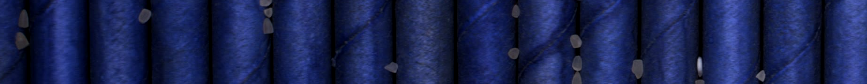broken_grain: (629, 54, 649, 83), (12, 28, 29, 48), (138, 7, 154, 27), (571, 53, 586, 74), (569, 31, 584, 51), (383, 60, 400, 76), (260, 16, 274, 35), (17, 9, 30, 29), (505, 44, 521, 59), (509, 1, 521, 19), (754, 68, 768, 82), (569, 72, 585, 84), (262, 4, 274, 18)
milky_grain: (695, 55, 705, 78)
